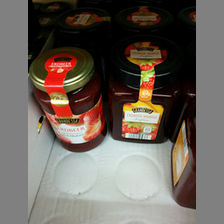jam: (29, 47, 107, 152), (112, 39, 179, 145)
